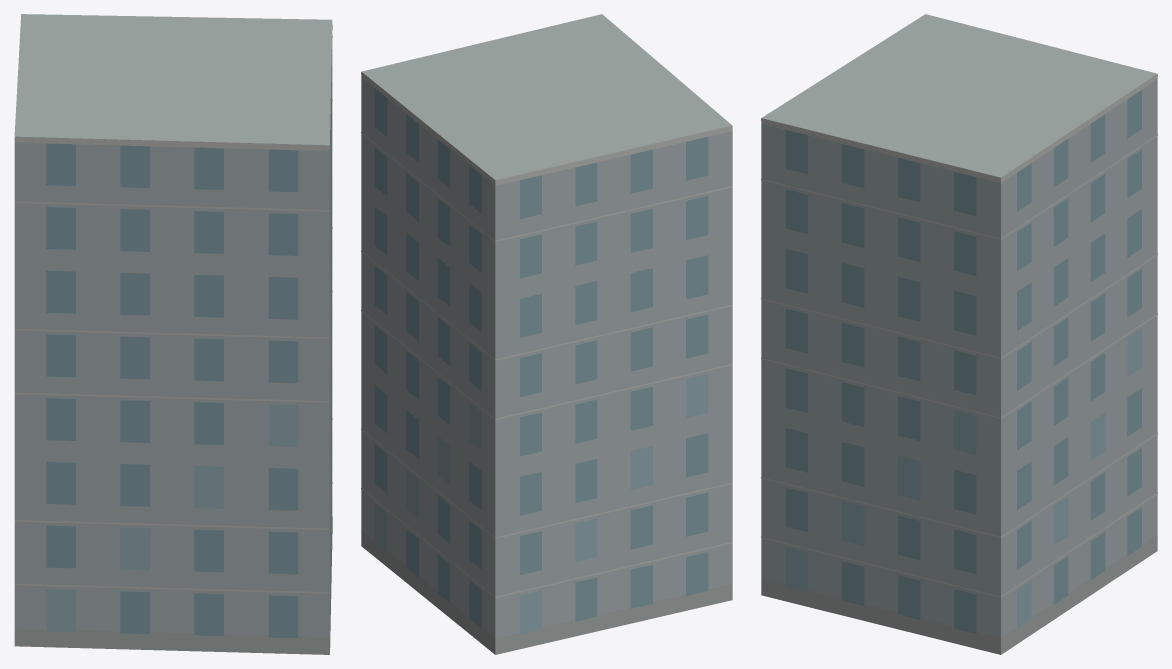
The model's file is survey-upis-32940742.glb.
3 renders of one model, left to right at view 1: azimuth 30°, elevation 25°; view 2: azimuth 150°, elevation 25°; view 3: azimuth 270°, elevation 25°, orthographic. The views are drawn at different scales.
Visible parts, largest first — view 1: survey-upis-32940742.tmp; view 2: survey-upis-32940742.tmp; view 3: survey-upis-32940742.tmp.
Part boxes in pixels (x1,y1,x2,y2): survey-upis-32940742.tmp: (14,14,332,654); survey-upis-32940742.tmp: (361,14,732,654); survey-upis-32940742.tmp: (761,14,1157,654).
Size of the model in its own units: 15.32 by 20.8 by 15.68.
